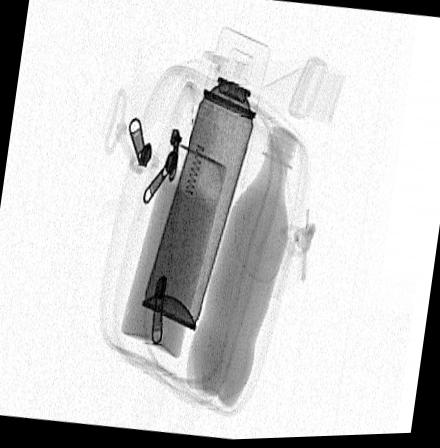Sprayer: (142, 28, 270, 331)
